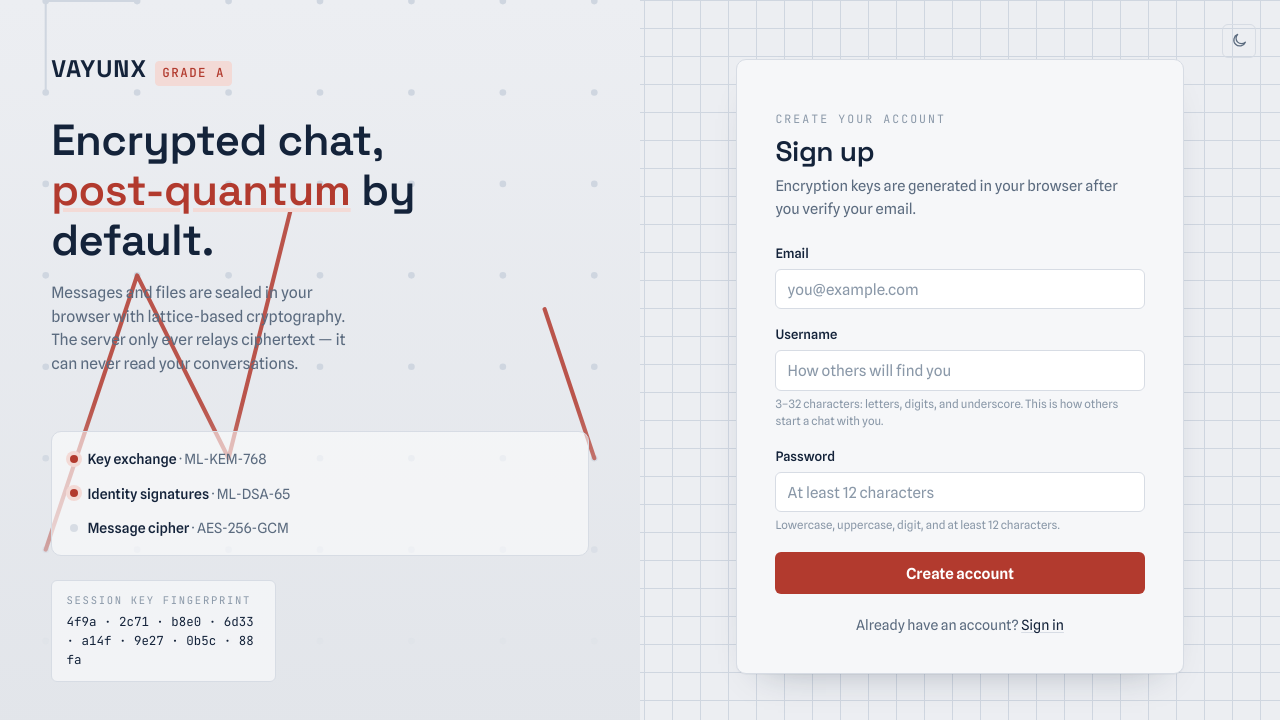
it: Register page › maps username_taken to user-facing guidance
Type "dup@example.com" into the field labelled "Email" at (960, 289), box [775,269,1145,309]
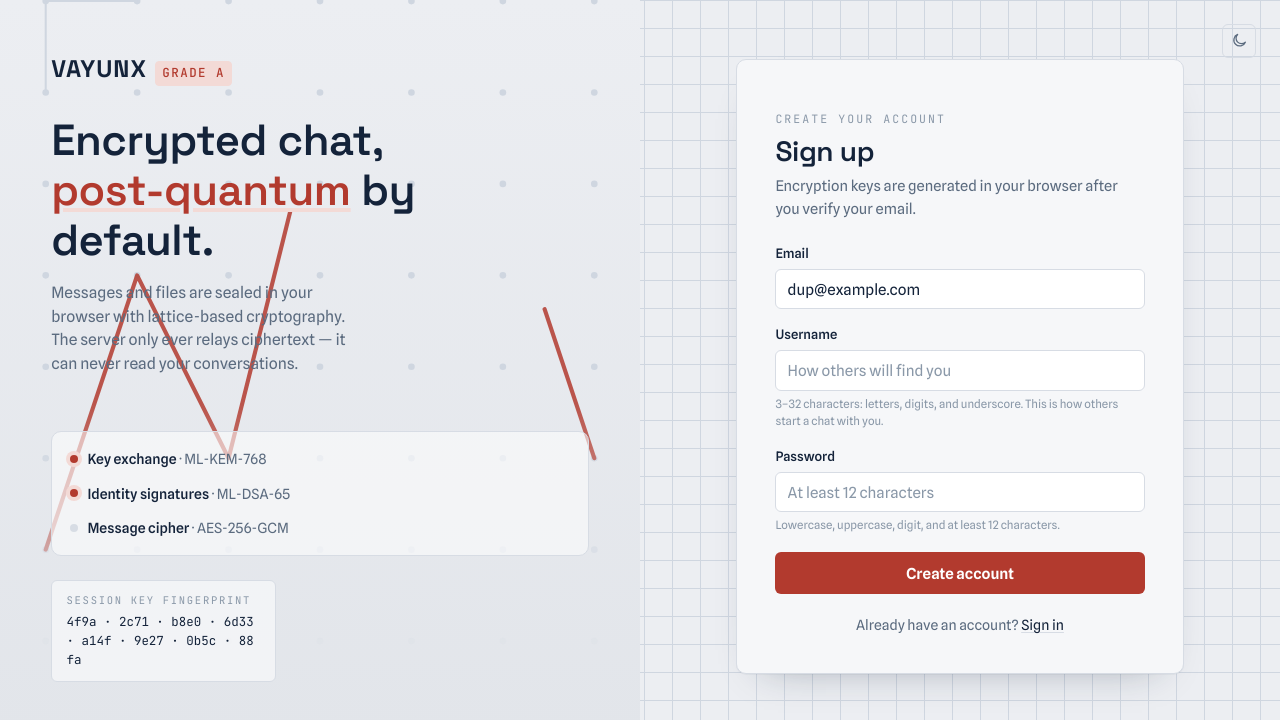
Type "dup" into the field labelled "Username" at (960, 370), box [775,350,1145,391]
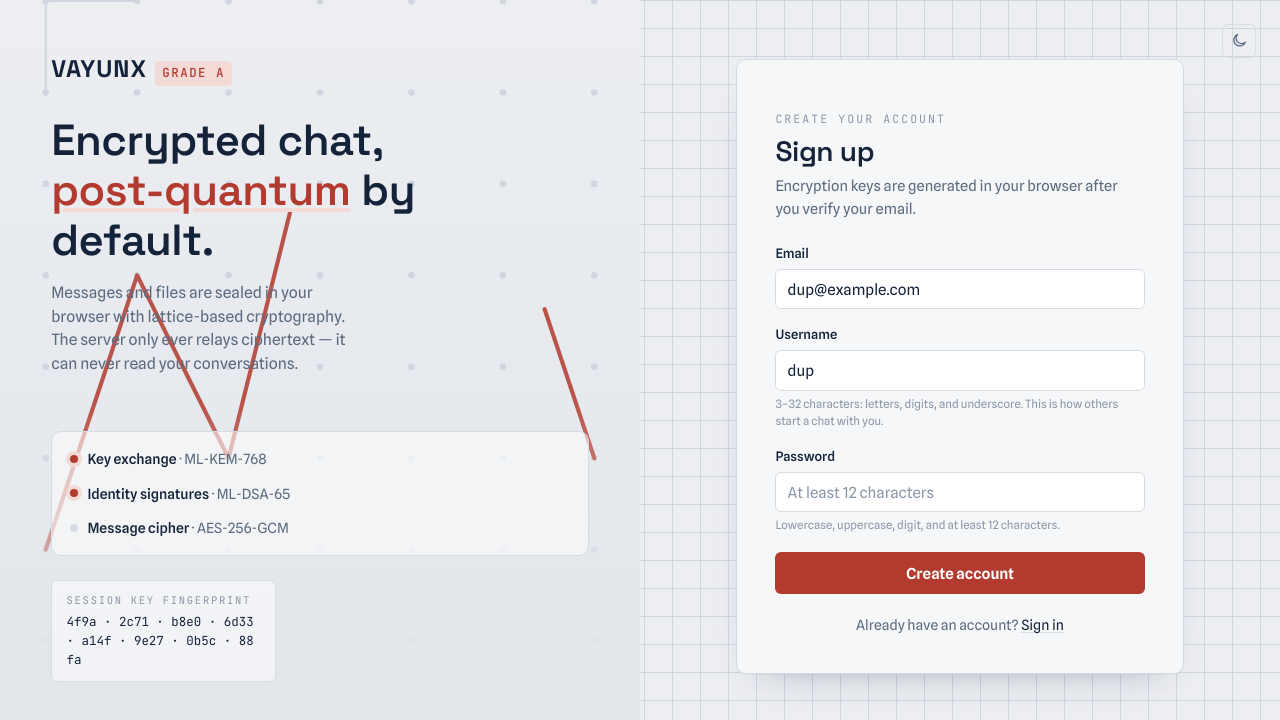
Type "Sup3rSecret!" into the password field labelled "Password" at (960, 492), box [775,472,1145,512]
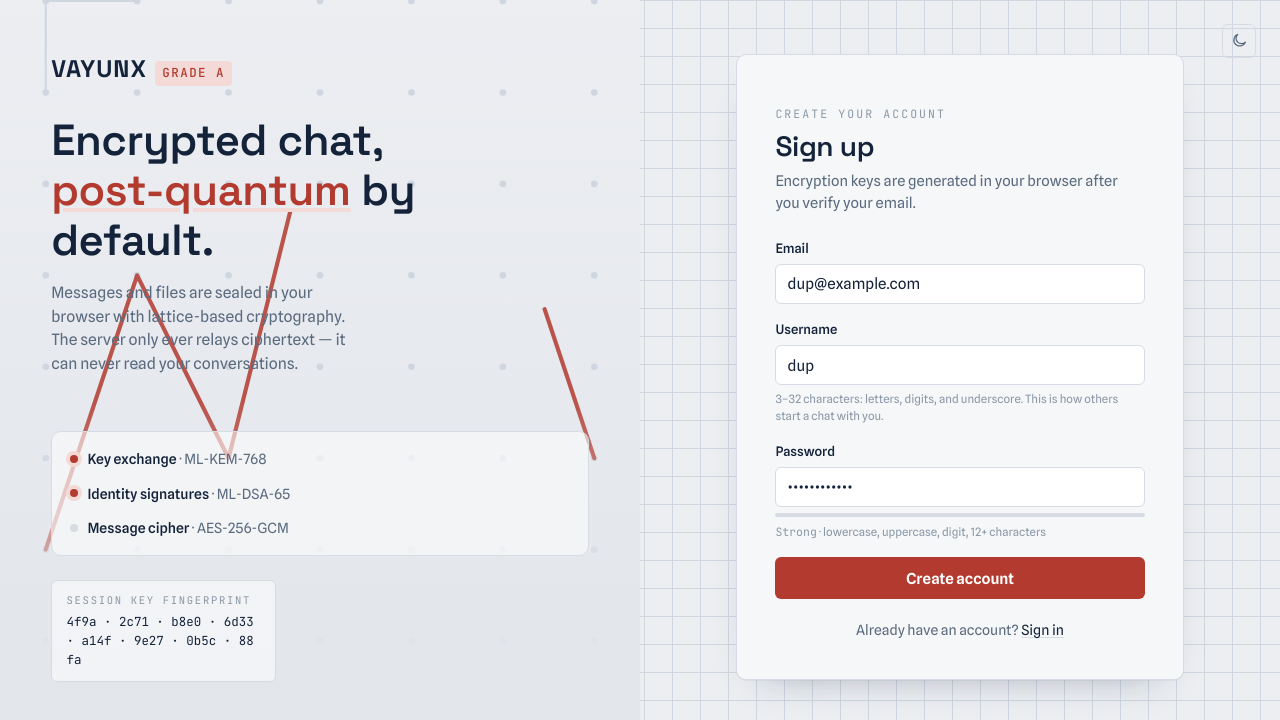
Click the button "Create account" at (960, 578), box [775,557,1145,599]
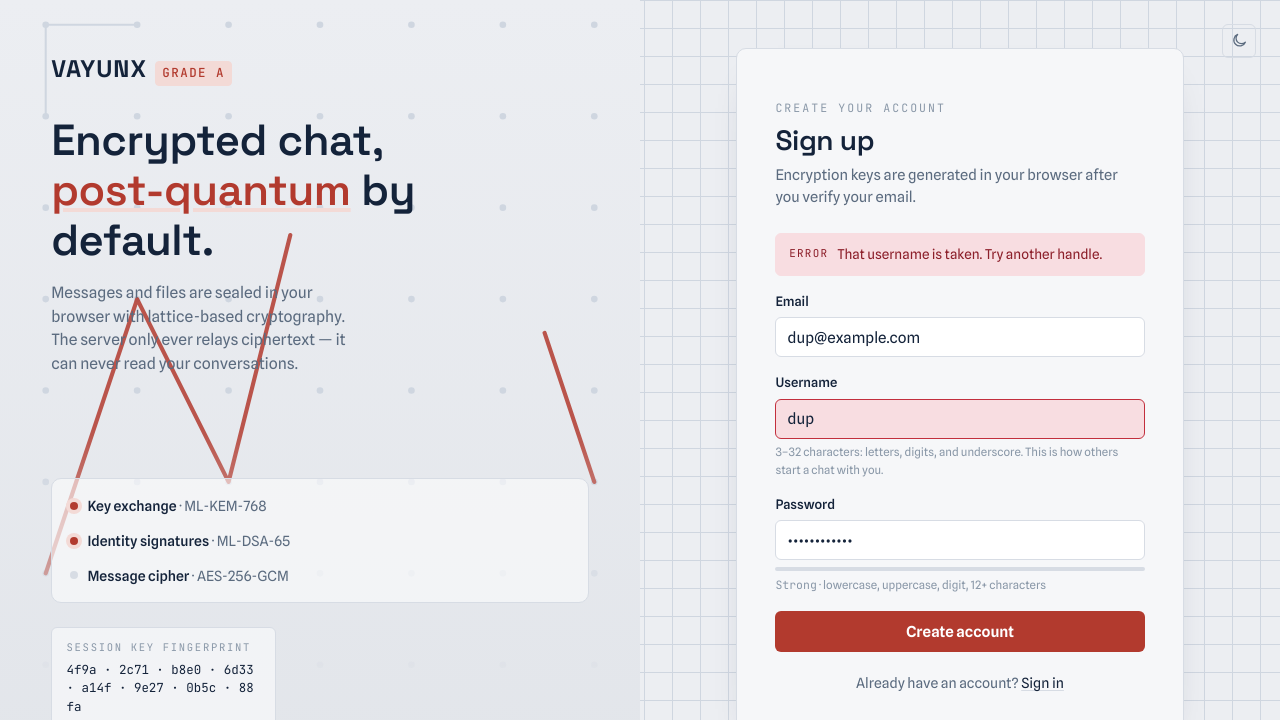
Check: the text "That username is taken. Try another handle." is shown, box [837,245,1102,264]
